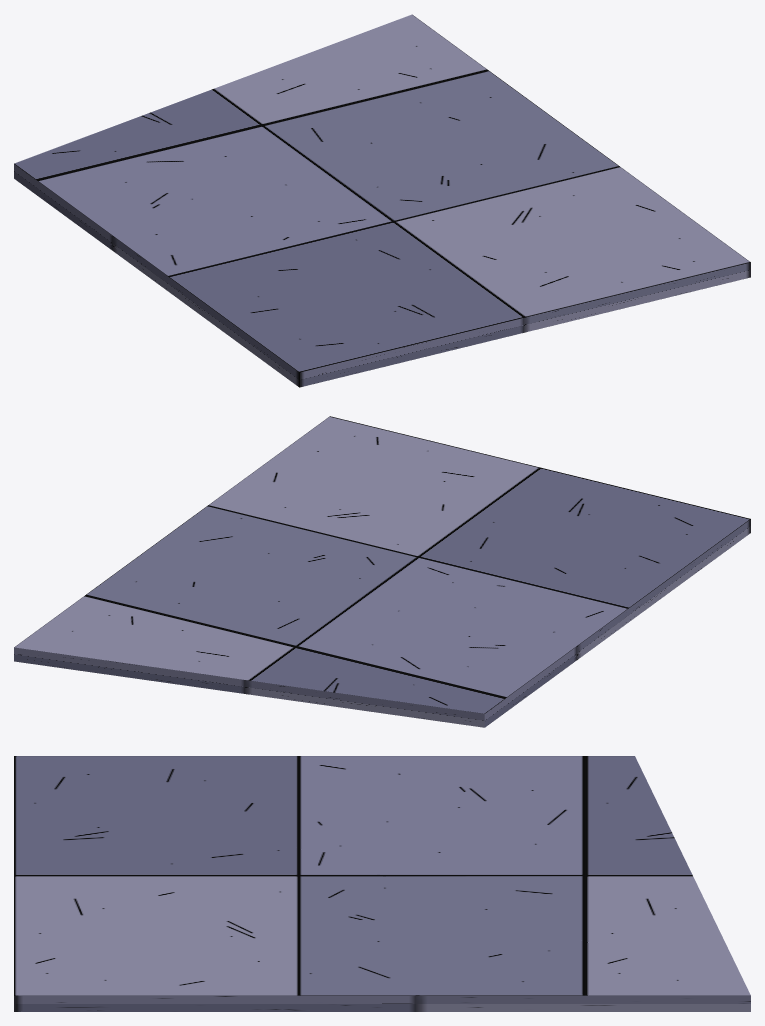
Rendered from small_piece.fbx.
3 views of the same model, one above another, from view 1: azimuth 30°, elevation 25°; view 2: azimuth 150°, elevation 25°; view 3: azimuth 270°, elevation 25° (orthographic). The views are drawn at different scales.
Parts seen in each view (by area): view 1: sp; view 2: sp; view 3: sp.
Boxes of the visible parts, x1,y1,x2,y2 form: sp: (14, 14, 750, 387); sp: (14, 416, 750, 727); sp: (14, 756, 750, 1011).
Size of the model in its own units: 11.38 by 0.3616 by 14.79.
